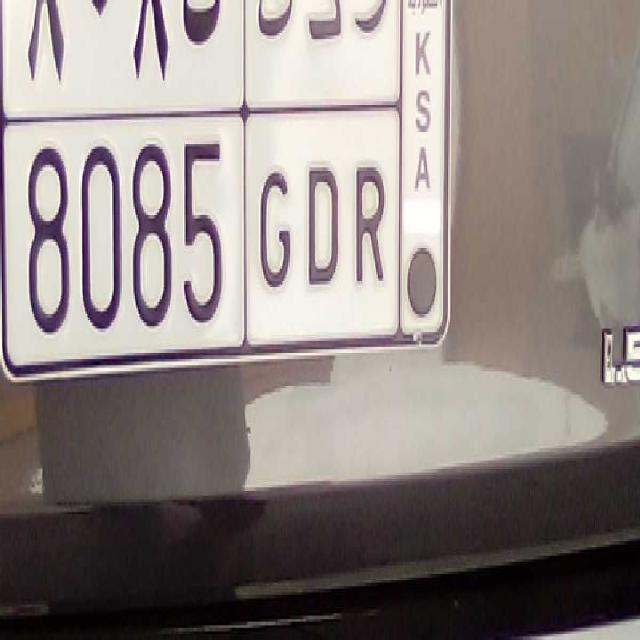license_plate: (4, 106, 398, 350)
